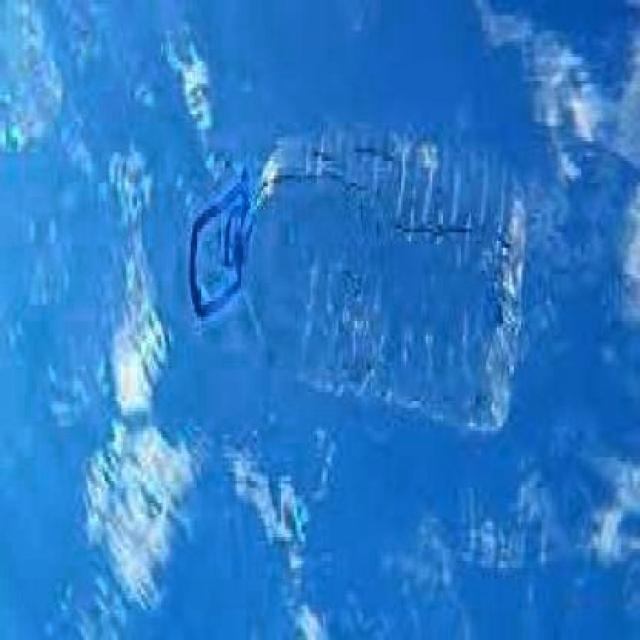pbottle: (177, 114, 528, 446)
